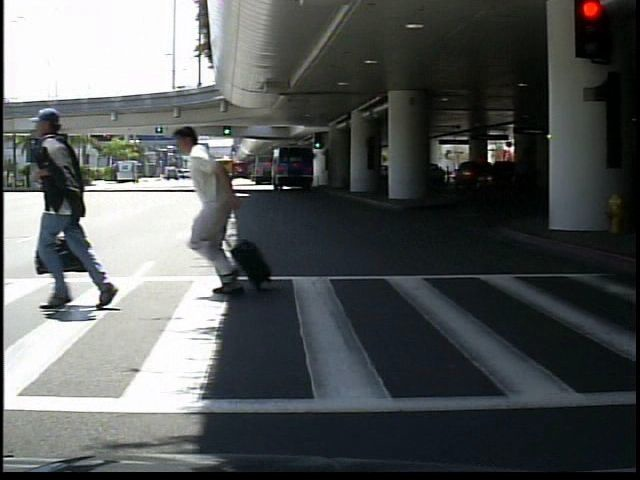person: (37, 109, 126, 316), (182, 118, 258, 297)
